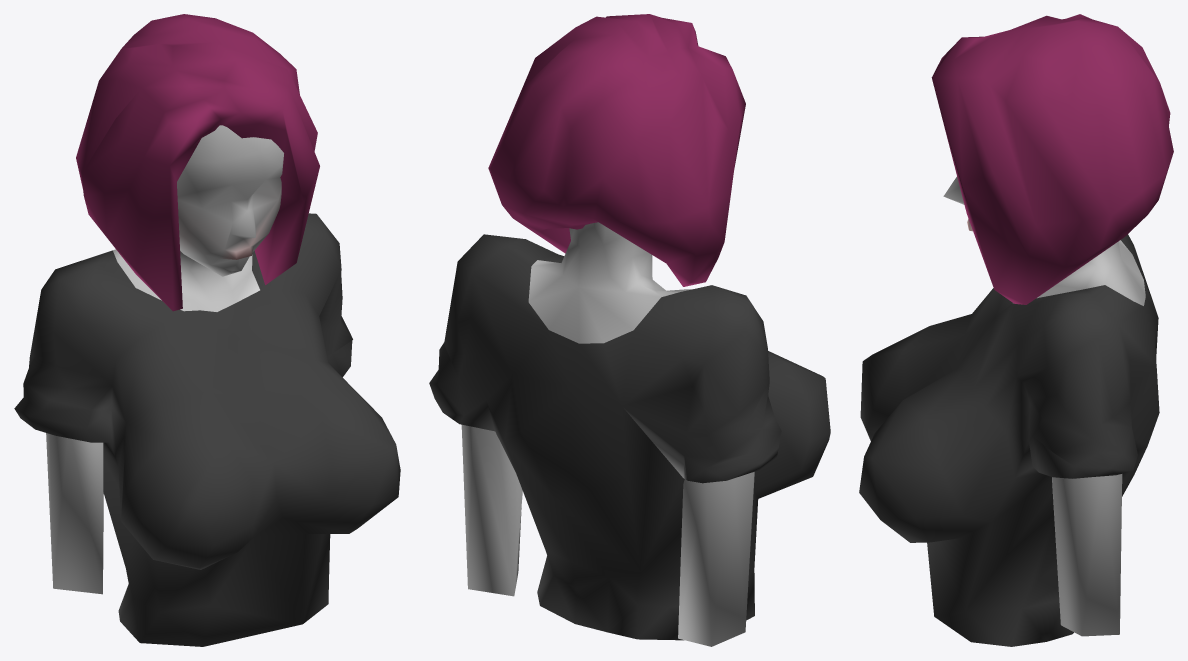
File: bad_girl_hbox.glb
3 views of the same model, side by side, from view 1: azimuth 30°, elevation 25°; view 2: azimuth 150°, elevation 25°; view 3: azimuth 270°, elevation 25° (orthographic). The views are drawn at different scales.
Visible parts, largest first — view 1: Object_2.003; view 2: Object_2.003; view 3: Object_2.003.
Part boxes in pixels (left/top/right/bottom): Object_2.003: left=14, top=14, right=400, bottom=646; Object_2.003: left=429, top=14, right=830, bottom=646; Object_2.003: left=859, top=14, right=1173, bottom=646.
Bounding box in the file's own units: 4.07 × 6.91 × 3.39.
